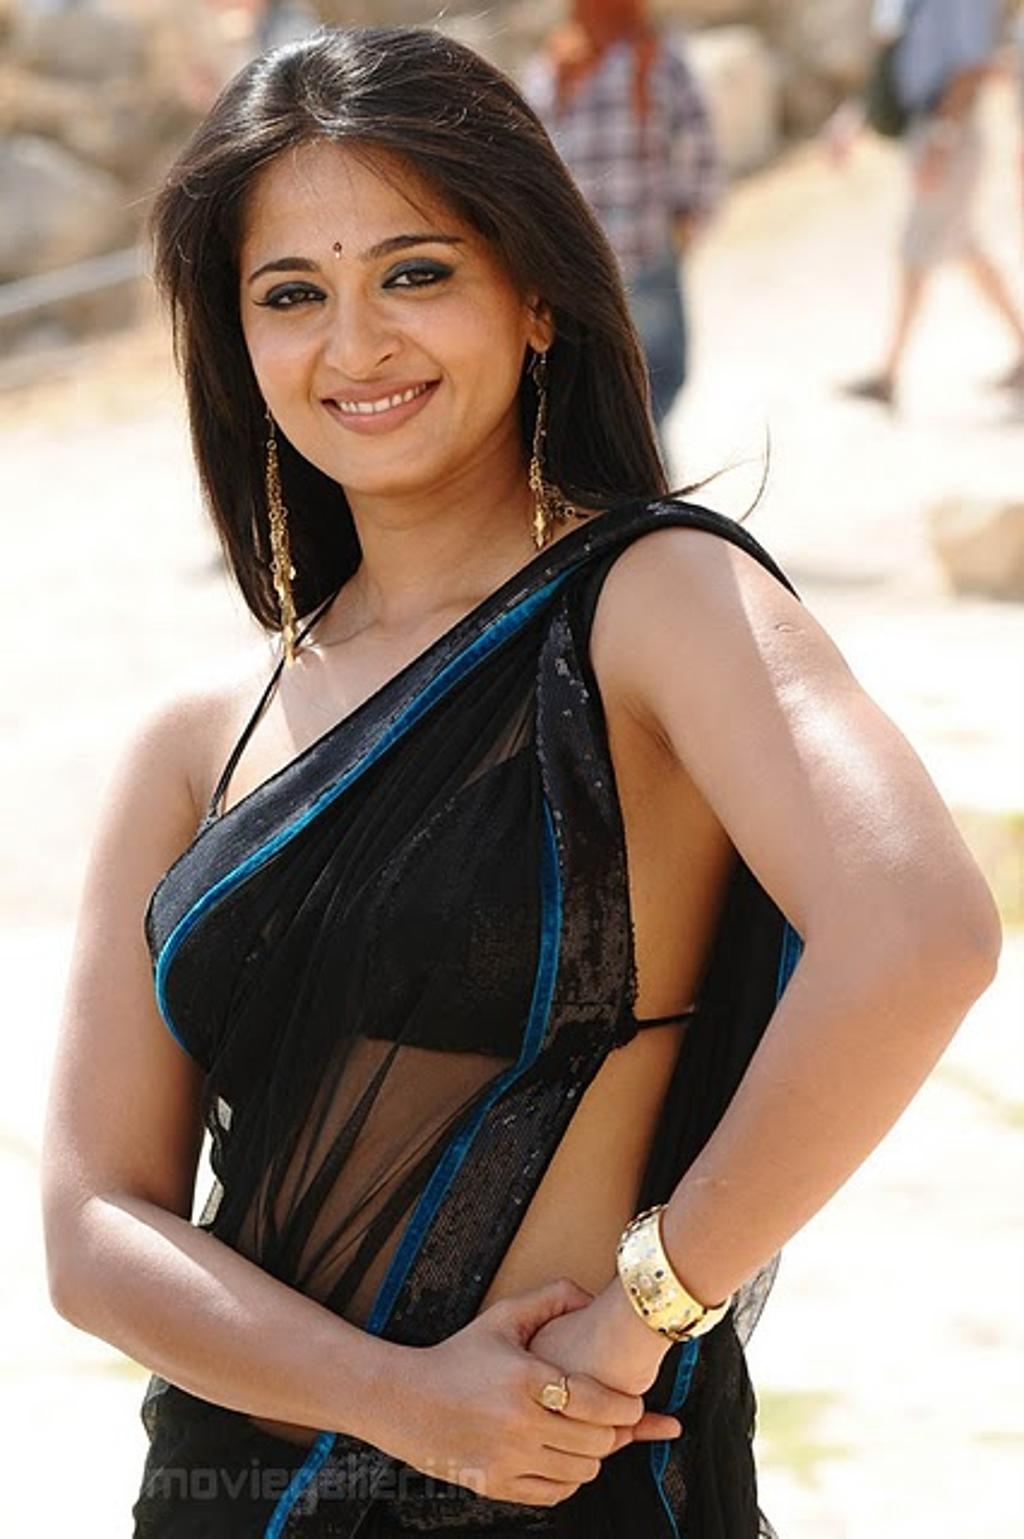face: (231, 153, 516, 489)
